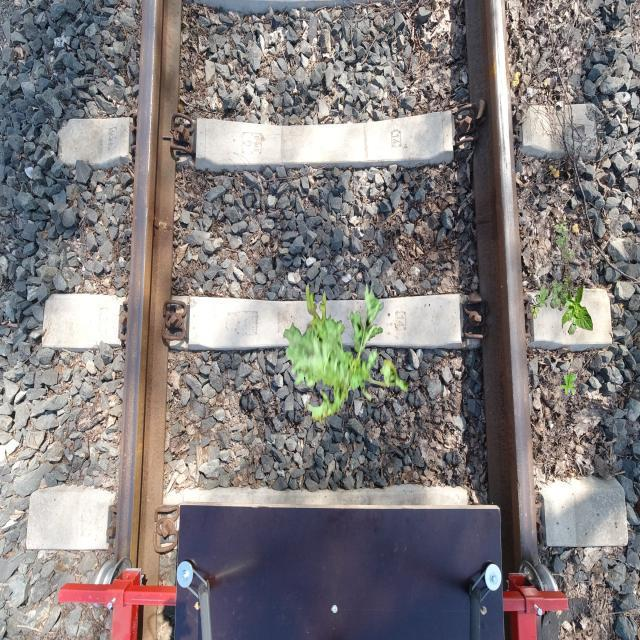Plant: (283, 281, 408, 428), (529, 215, 578, 318), (552, 282, 594, 336), (559, 372, 576, 396)
